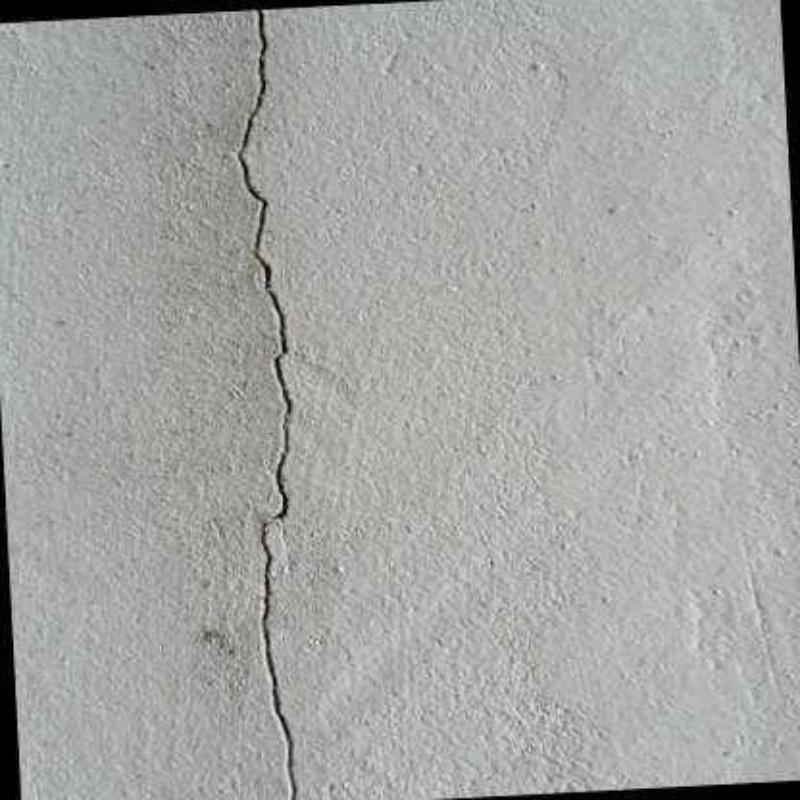pothole: (237, 8, 297, 800)
